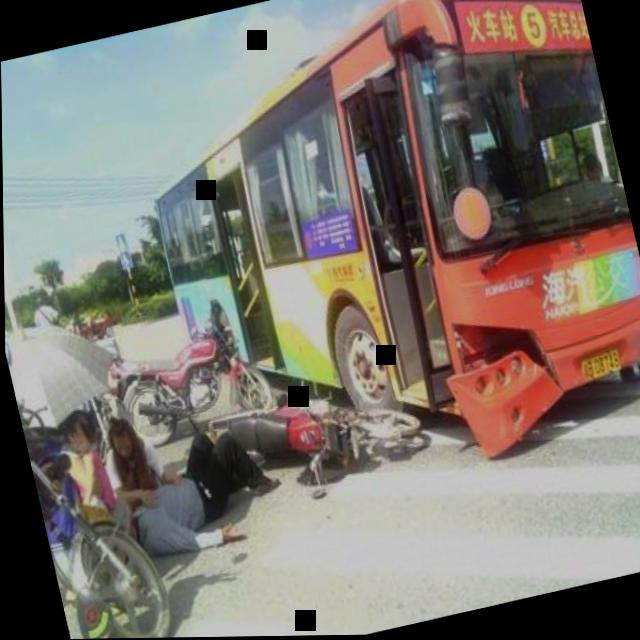Fall-Detected: (86, 403, 282, 580)
